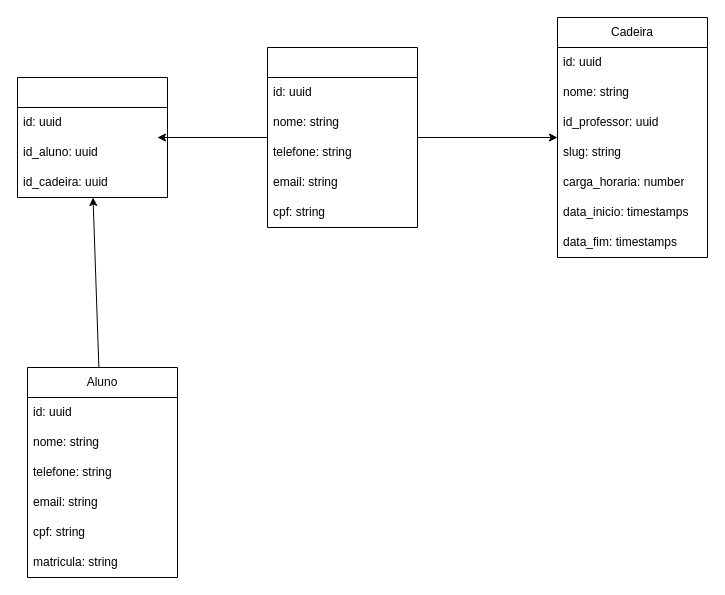
The diagram is 725 pixels wide and 595 high, and some of its shapes have lost their labels. The box of each missing label's shape, as (x1, y1, x2, y2) in pixels:
CadeirasAlunos: (16, 76, 168, 198)
Professor: (266, 46, 418, 228)
